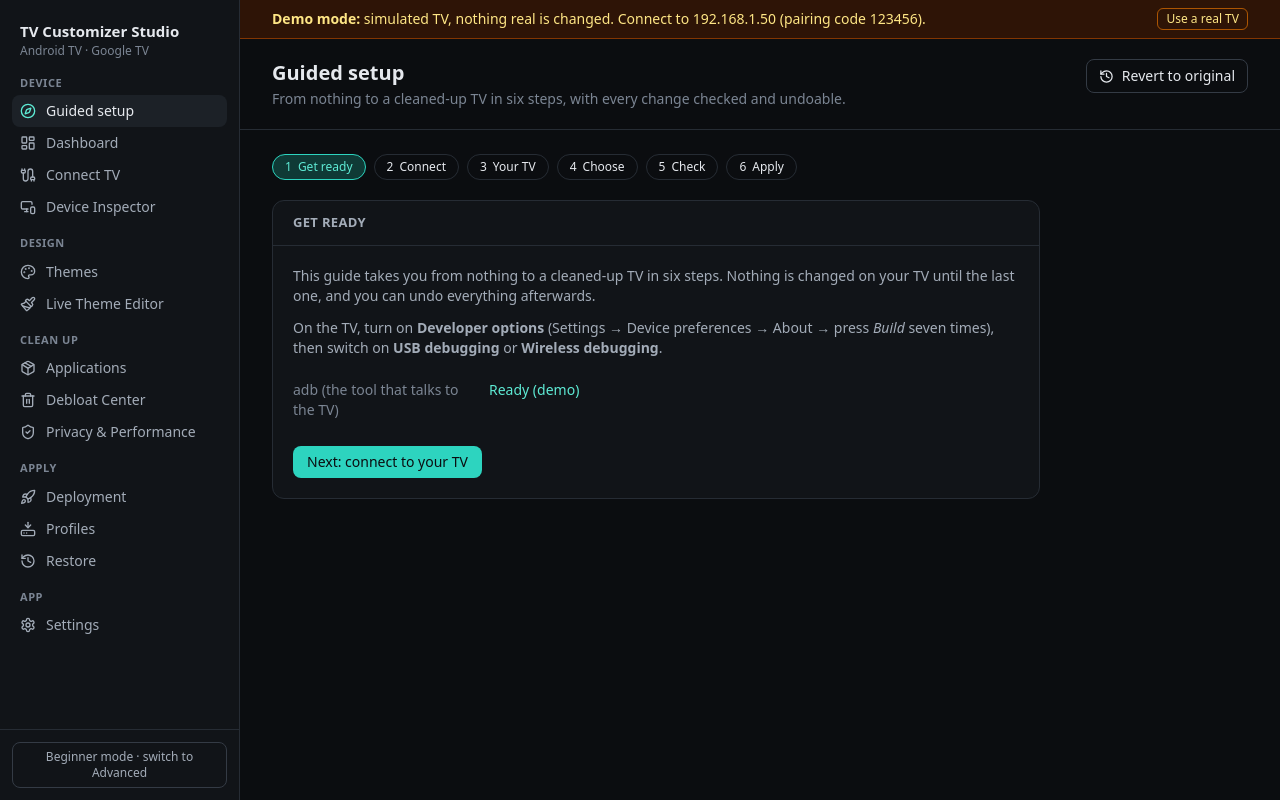
Test: demo mode › shows a banner that says nothing real is changed, and turns off in one click
The width and height of the screenshot is (1280, 800).
Expected: the message shows "nothing real is changed", top-left (360, 9), bottom-right (693, 28)
Expected: the message shows "192.168.1.50", top-left (693, 9), bottom-right (776, 28)
What coordinates should you click on to do the following:
click the button "Use a real TV"
I would click on:
 (1203, 19)
Its box is top-left (1157, 8), bottom-right (1248, 30).
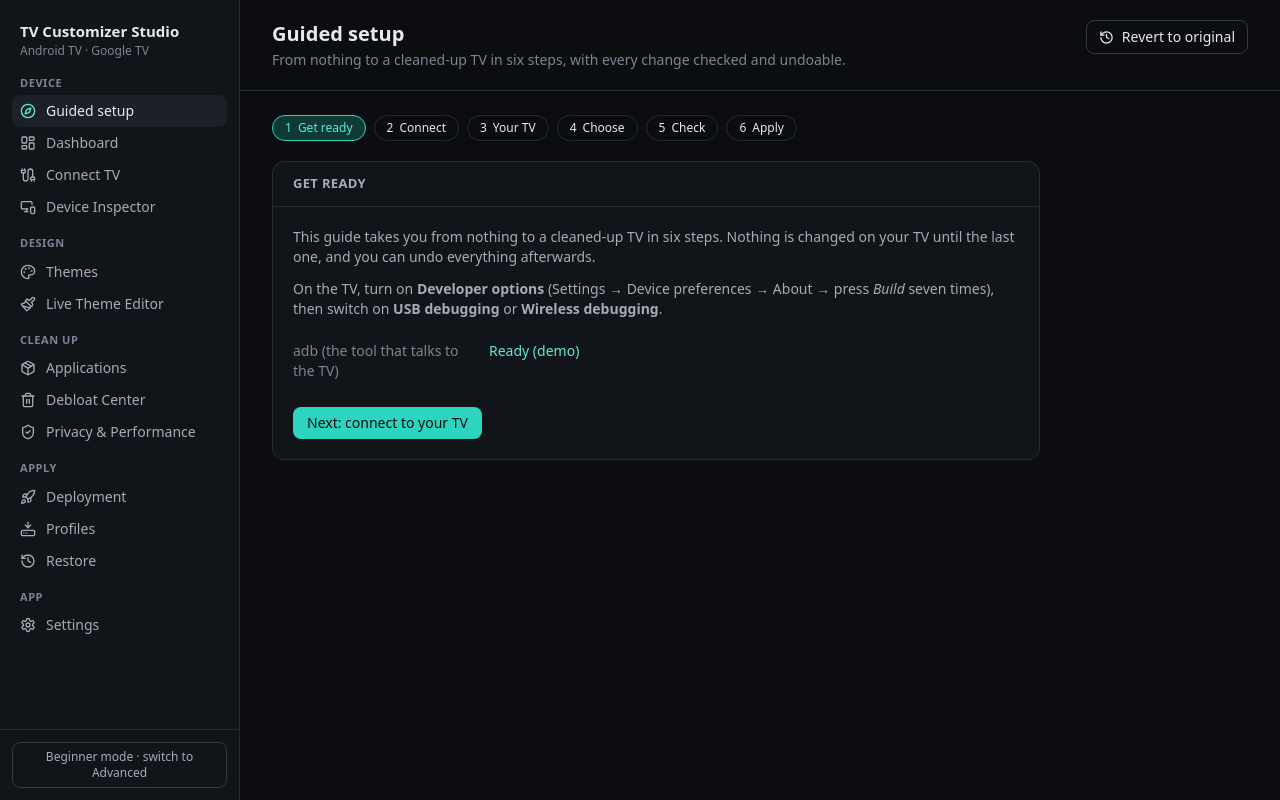
Expected: the text "Demo mode:" is gone
